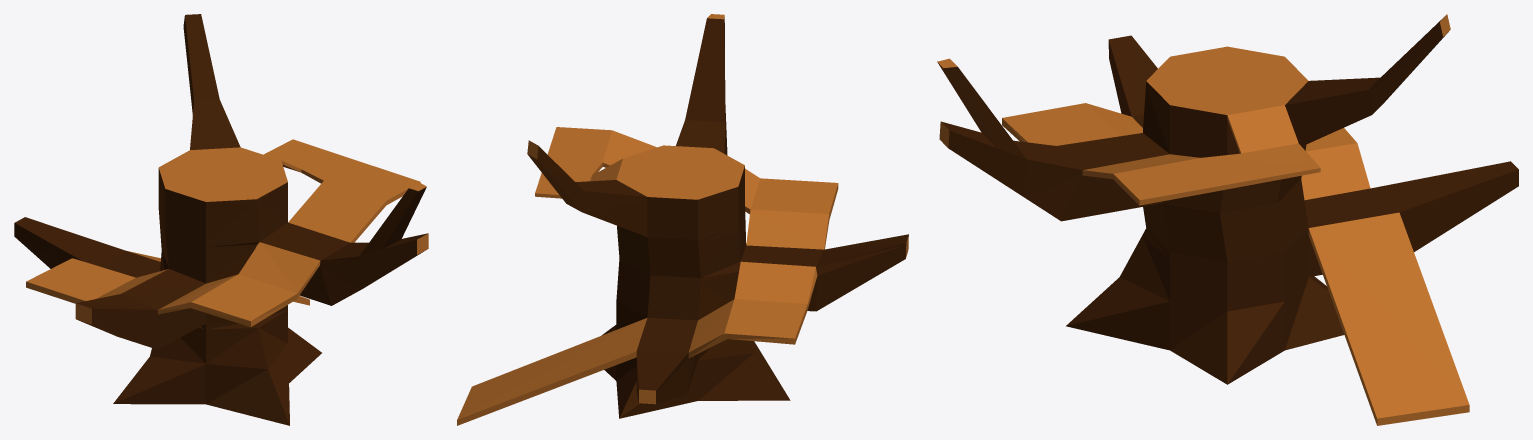
Rendered from treestump_002.FBX.
3 renders of one model, left to right at view 1: azimuth 30°, elevation 25°; view 2: azimuth 150°, elevation 25°; view 3: azimuth 270°, elevation 25°, orthographic. The views are drawn at different scales.
Visible parts, largest first — view 1: Box004; view 2: Box004; view 3: Box004.
Part boxes in pixels (x1,y1,x2,y2): Box004: (14,14,428,425); Box004: (457,14,908,425); Box004: (937,14,1518,425).
Bounding box in the file's own units: 18.02 × 14.48 × 21.49.
